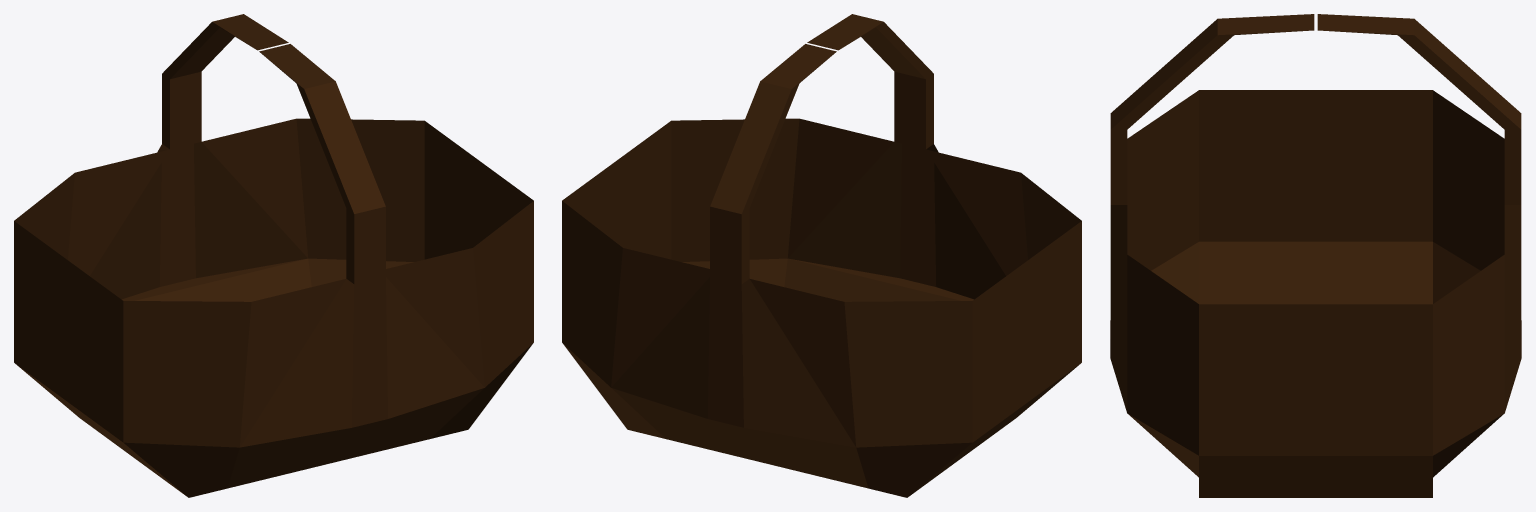
File: basket.obj
3 views of the same model, side by side, from view 1: azimuth 30°, elevation 25°; view 2: azimuth 150°, elevation 25°; view 3: azimuth 270°, elevation 25° (orthographic). The views are drawn at different scales.
Visible parts, largest first — view 1: Plane; view 2: Plane; view 3: Plane.
Part boxes in pixels (x1,y1,x2,y2): Plane: (14, 14, 533, 497); Plane: (562, 14, 1081, 497); Plane: (1110, 14, 1521, 497).
Bounding box in the file's own units: 0.3199 × 0.2804 × 0.2594.
